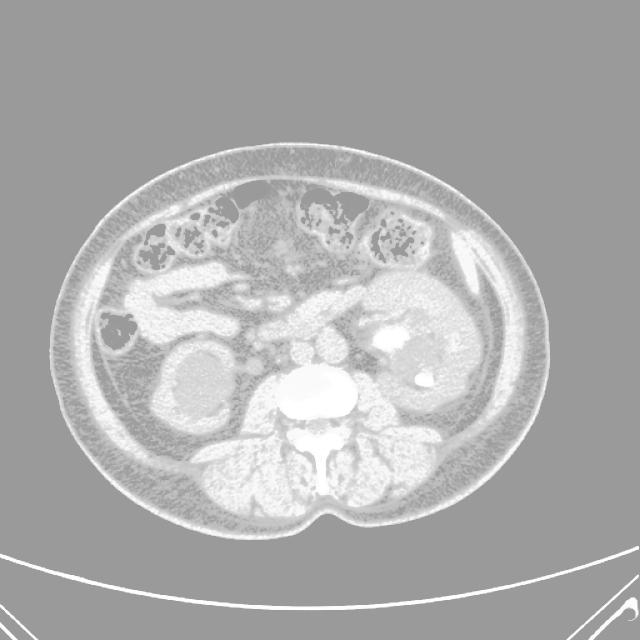STONE: (86, 166, 467, 384)
